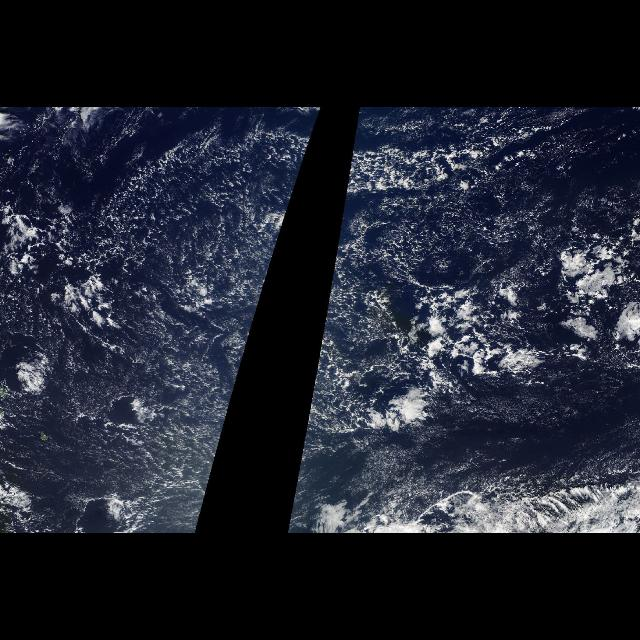Gravel: (308, 119, 632, 418), (93, 119, 319, 418)
Sugar: (1, 382, 238, 492), (294, 382, 342, 492)
